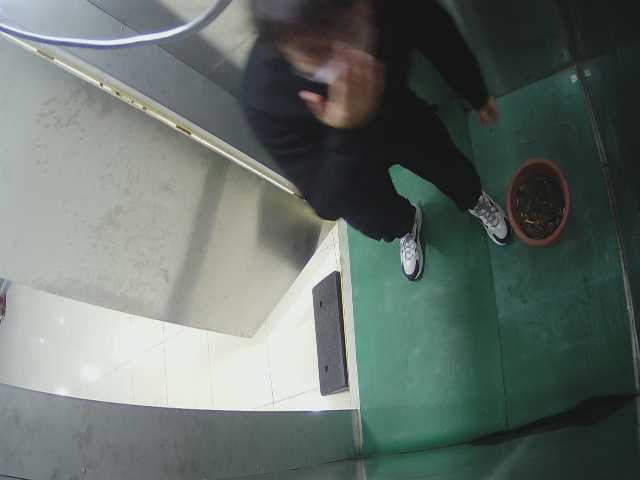flowerpot: (500, 154, 579, 256)
person: (240, 8, 507, 264)
